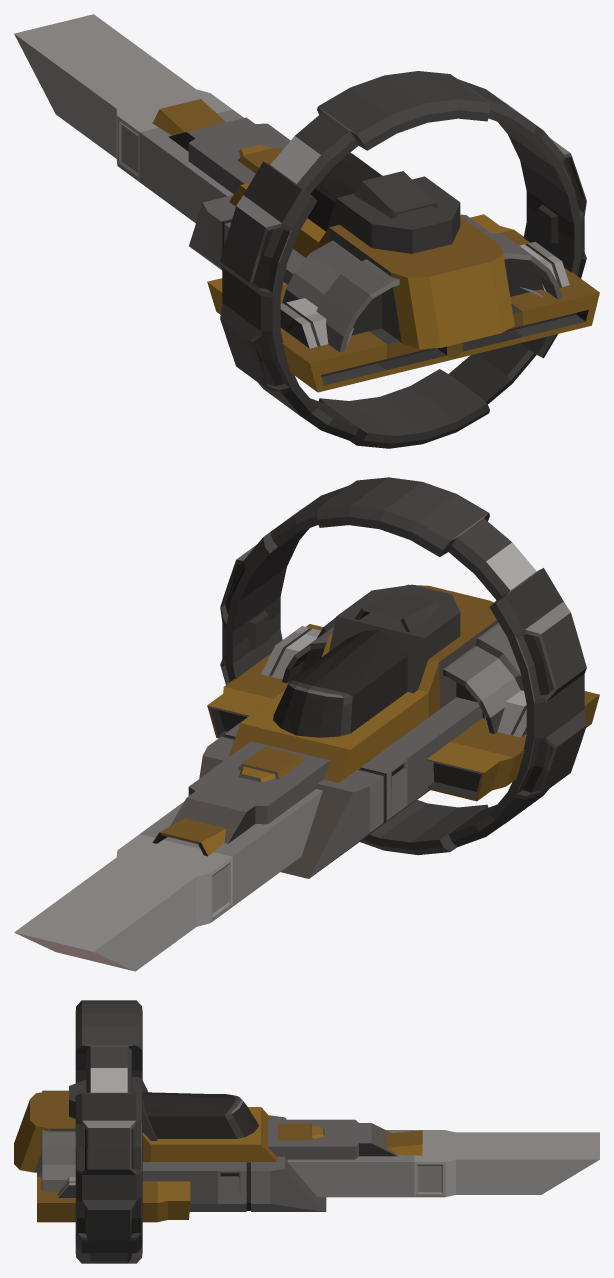
The model's file is zenith.glb.
3 views of the same model, one above another, from view 1: azimuth 30°, elevation 25°; view 2: azimuth 150°, elevation 25°; view 3: azimuth 270°, elevation 25° (orthographic). The views are drawn at different scales.
Bounding box in the file's own units: 2.81 × 2.71 × 6.03.
